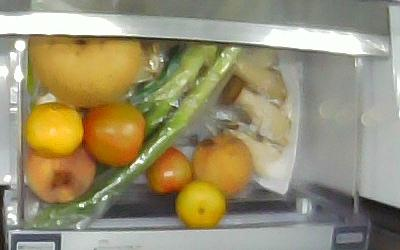peach: (24, 145, 95, 203), (192, 133, 252, 196)
pear: (30, 33, 141, 103)
tangerine: (24, 103, 84, 156), (175, 182, 226, 228)
tomato: (84, 103, 146, 165), (147, 143, 193, 195)
